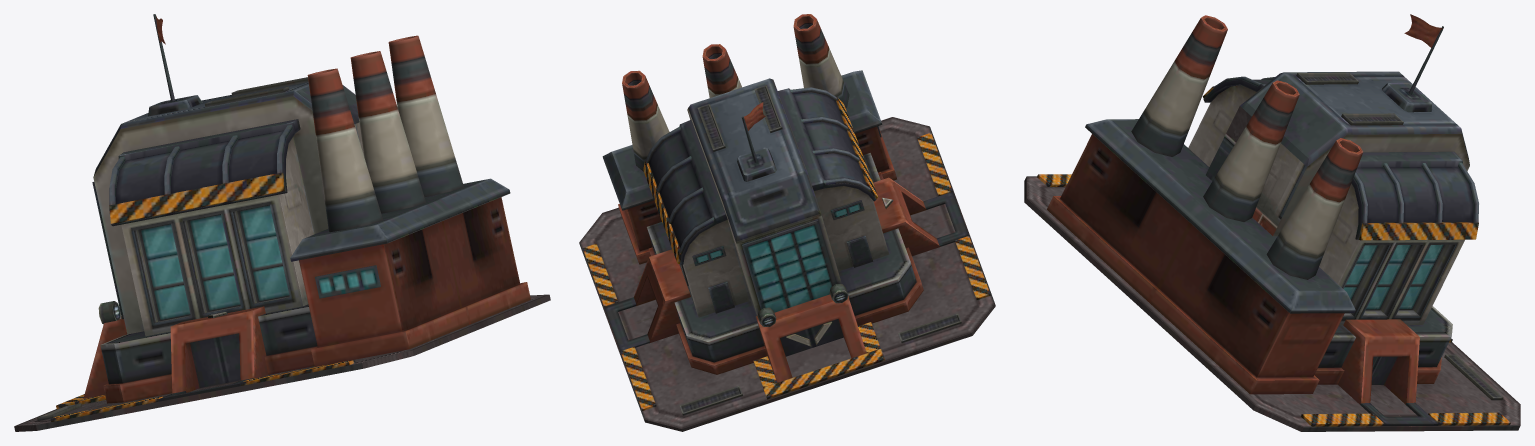
File: 44_unlock.fbx
3 renders of one model, left to right at view 1: azimuth 30°, elevation 25°; view 2: azimuth 150°, elevation 25°; view 3: azimuth 270°, elevation 25°, orthographic. The views are drawn at different scales.
Parts seen in each view (by area): view 1: junbeisuo_01; view 2: junbeisuo_01; view 3: junbeisuo_01.
Boxes of the visible parts, left/top/right/bottom form: junbeisuo_01: left=14, top=14, right=550, bottom=431; junbeisuo_01: left=579, top=14, right=995, bottom=431; junbeisuo_01: left=1024, top=14, right=1520, bottom=431.
Size of the model in its own units: 239 by 188 by 216.
Materials: 1 (1 with a texture image).
